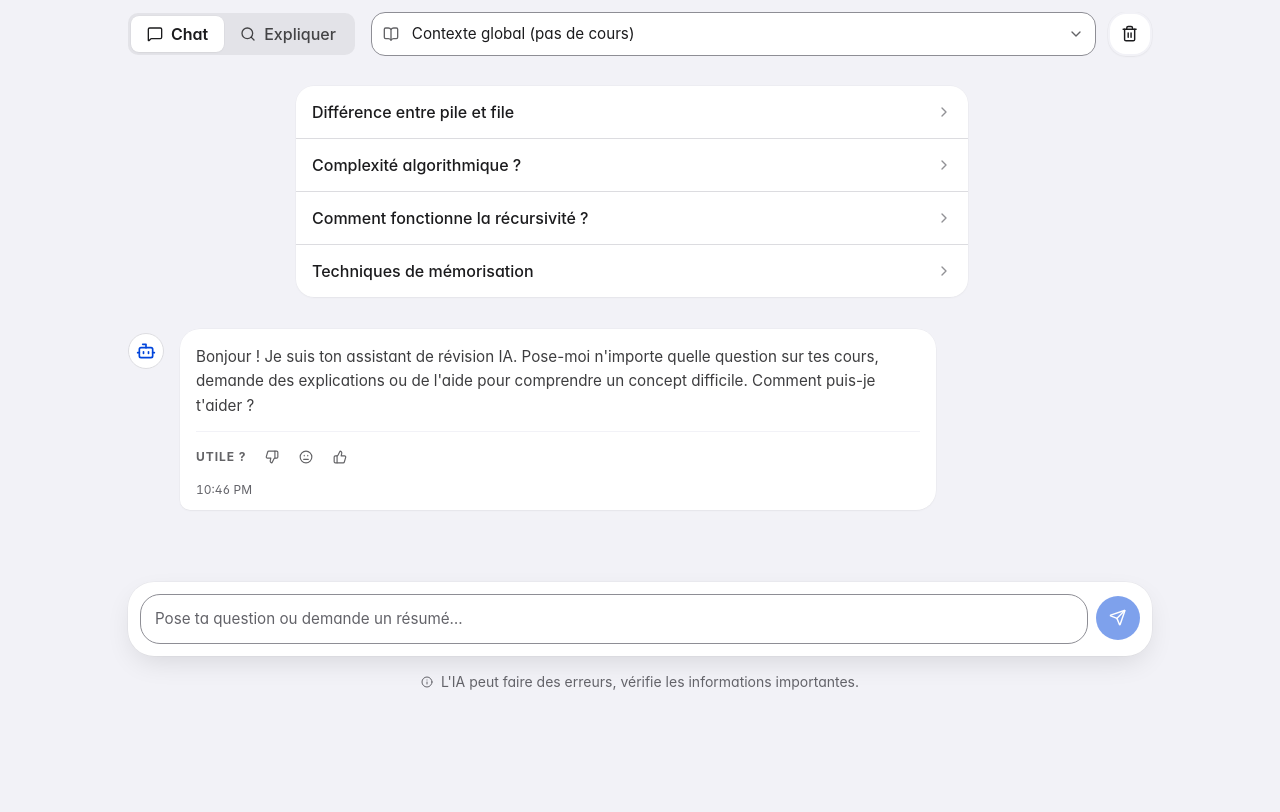
Test: Assistant IA › envoie la question avec le contexte du cours choisi et affiche la réponse en direct
This screenshot has width=1280, height=812.
(page scrolled)
Select "Services réseaux" in the dropdown at (733, 34), box [371,12,1096,56]
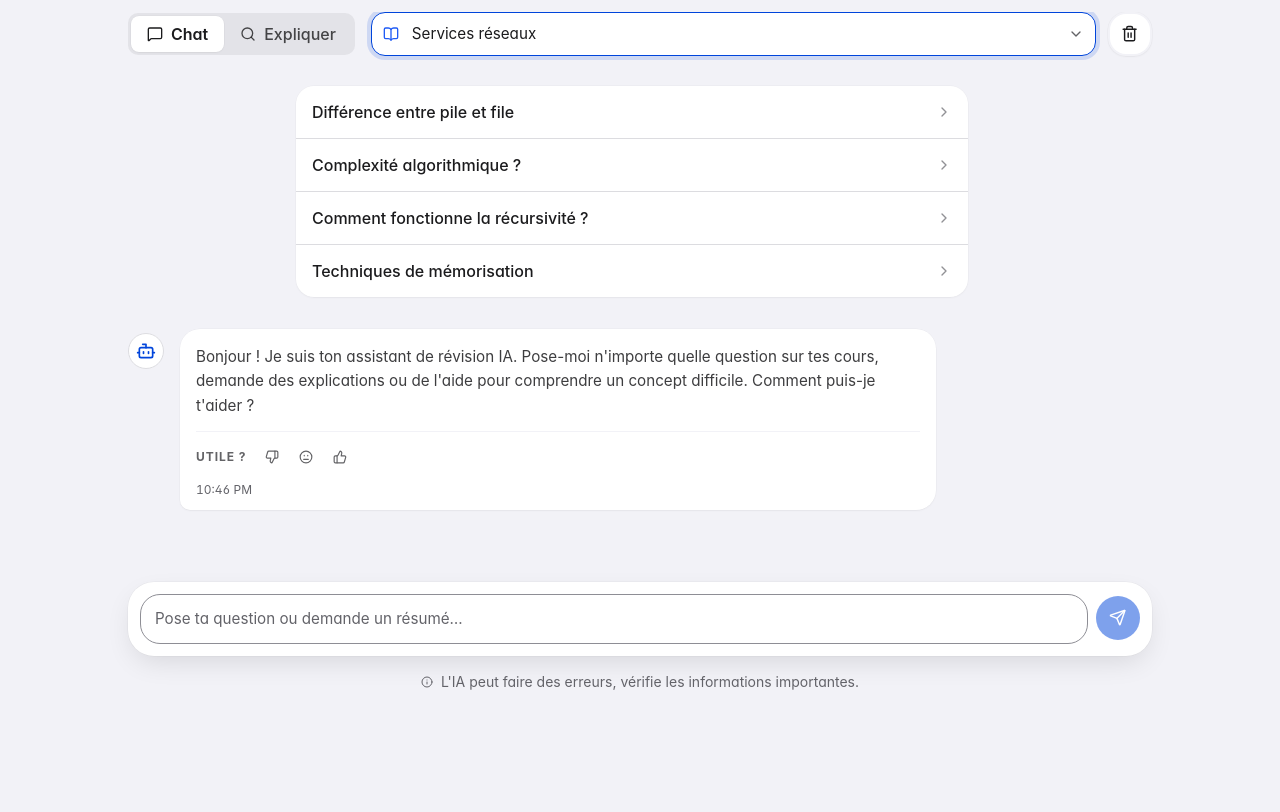
Type "C'est quoi SSH ?" into the text box with placeholder "Pose ta question ou demande un résumé…".
click(614, 619); type("C'est quoi SSH ?")  # box [140,594,1088,644]
Then press Enter
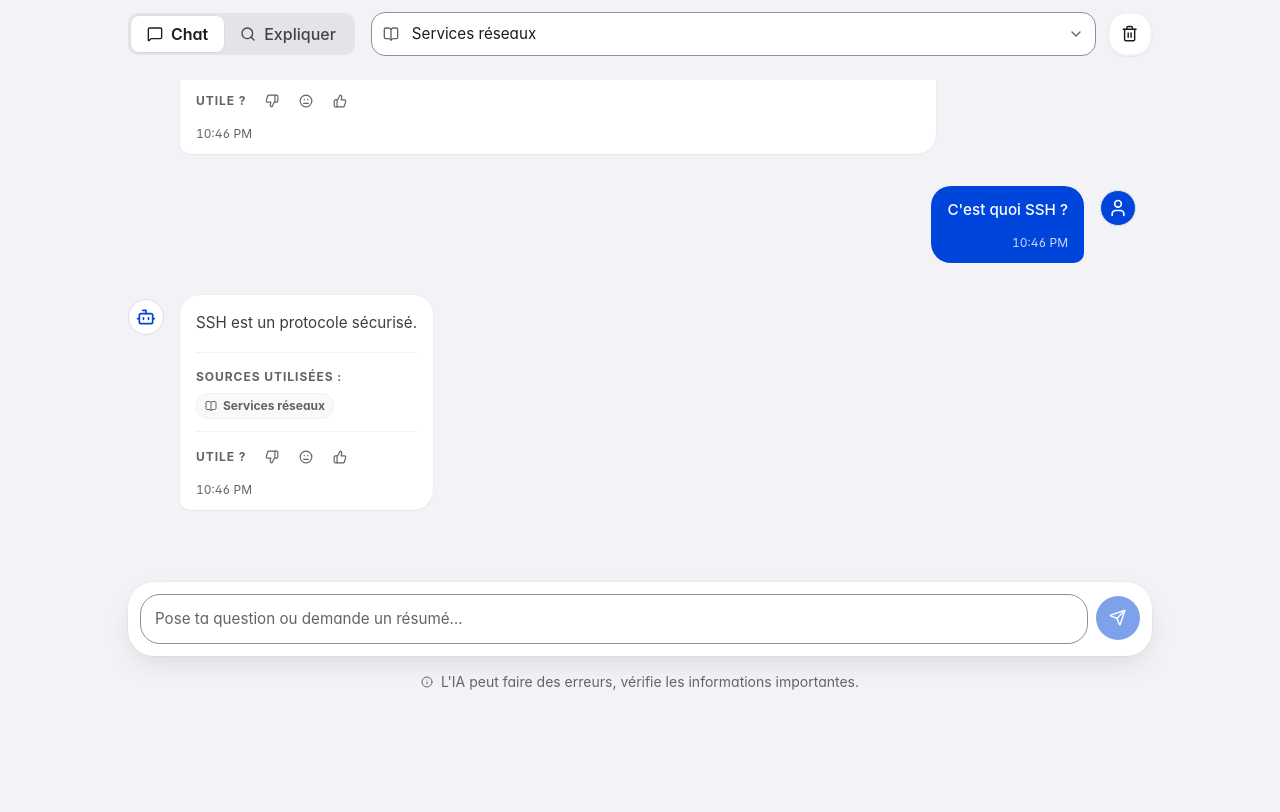
Expected: the text "C'est quoi SSH ?" is shown, [948,198,1068,223]
Expected: the text "SSH est un protocole sécurisé." is shown, [196,311,417,336]
Expected: the text "Sources utilisées :" is shown, [196,368,342,384]
